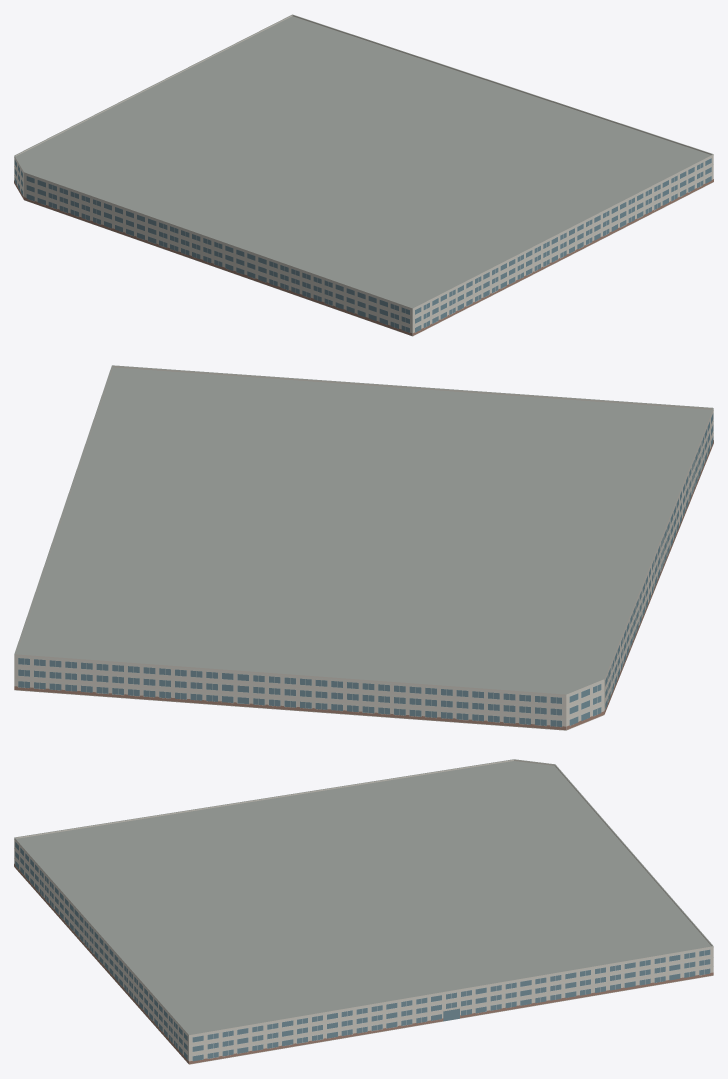
File: public-f6f1d491-5a7b-49c8-a61a-1b877601af24.glb
3 views of the same model, one above another, from view 1: azimuth 30°, elevation 25°; view 2: azimuth 150°, elevation 25°; view 3: azimuth 270°, elevation 25° (orthographic). The views are drawn at different scales.
Visible parts, largest first — view 1: public-f6f1d491-5a7b-49c8-a61a-1b877601af24; view 2: public-f6f1d491-5a7b-49c8-a61a-1b877601af24; view 3: public-f6f1d491-5a7b-49c8-a61a-1b877601af24.
Boxes of the visible parts, left/top/right/bottom form: public-f6f1d491-5a7b-49c8-a61a-1b877601af24: left=14, top=14, right=713, bottom=336; public-f6f1d491-5a7b-49c8-a61a-1b877601af24: left=14, top=365, right=713, bottom=730; public-f6f1d491-5a7b-49c8-a61a-1b877601af24: left=14, top=759, right=713, bottom=1064.
Bounding box in the file's own units: 183 × 9.15 × 196.
